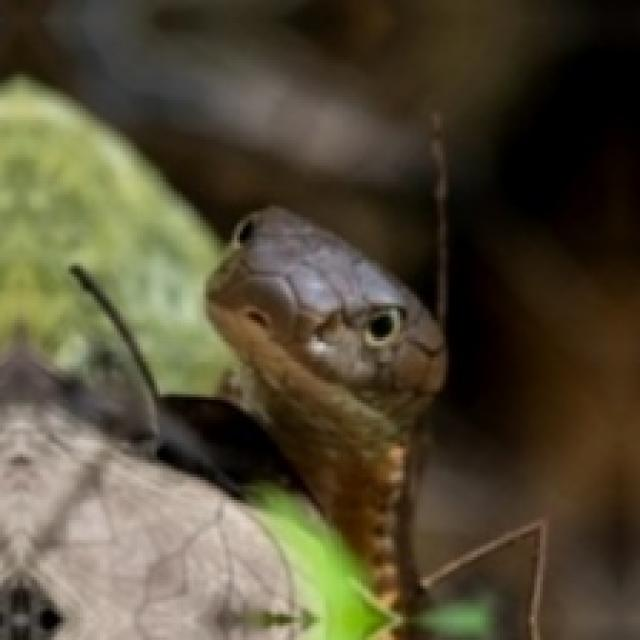king cobra: (0, 80, 389, 637), (163, 411, 271, 491)
